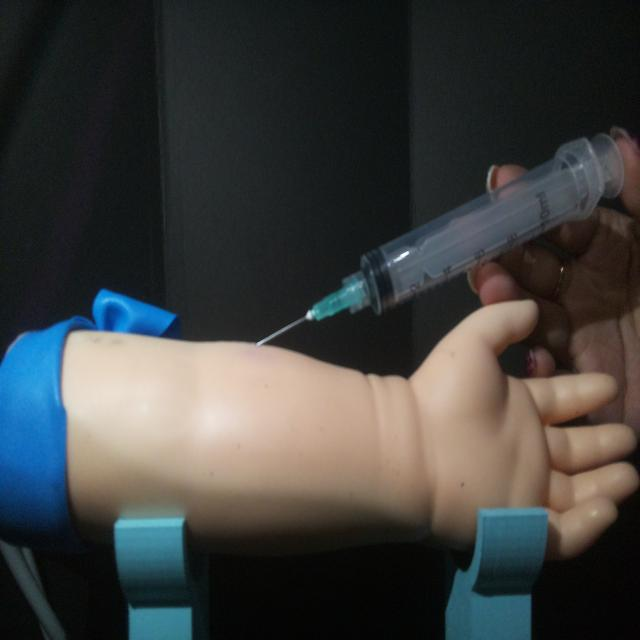26deg: (250, 126, 628, 350)
